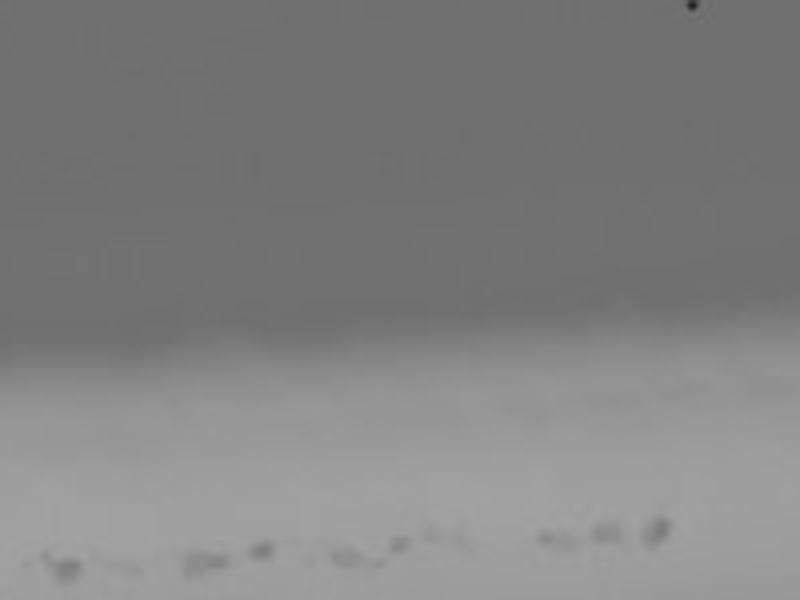defect: (39, 547, 81, 587), (187, 544, 227, 582), (591, 516, 632, 548), (539, 528, 581, 555), (643, 516, 674, 552), (332, 540, 368, 569), (101, 554, 141, 579), (247, 537, 280, 565), (419, 520, 447, 542), (391, 531, 413, 555), (684, 1, 704, 18), (299, 554, 319, 569), (371, 558, 392, 572)
